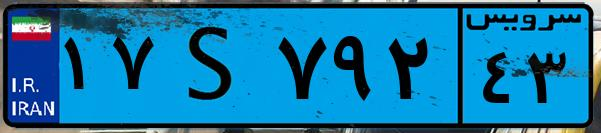1: (57, 26, 110, 100)
2: (385, 28, 445, 110)
3: (525, 38, 570, 115)
4: (475, 38, 525, 113)
7: (270, 28, 330, 110), (110, 28, 158, 98)
9: (330, 28, 385, 110)
S: (158, 12, 270, 120)
